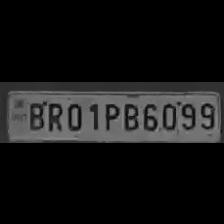0: (62, 98, 84, 132), (159, 99, 177, 131)
1: (84, 98, 100, 132)
6: (140, 98, 158, 132)
9: (196, 99, 216, 131), (178, 99, 196, 131)
B: (120, 98, 140, 132), (25, 97, 45, 130)
P: (98, 98, 119, 132)
R: (44, 98, 62, 132)
